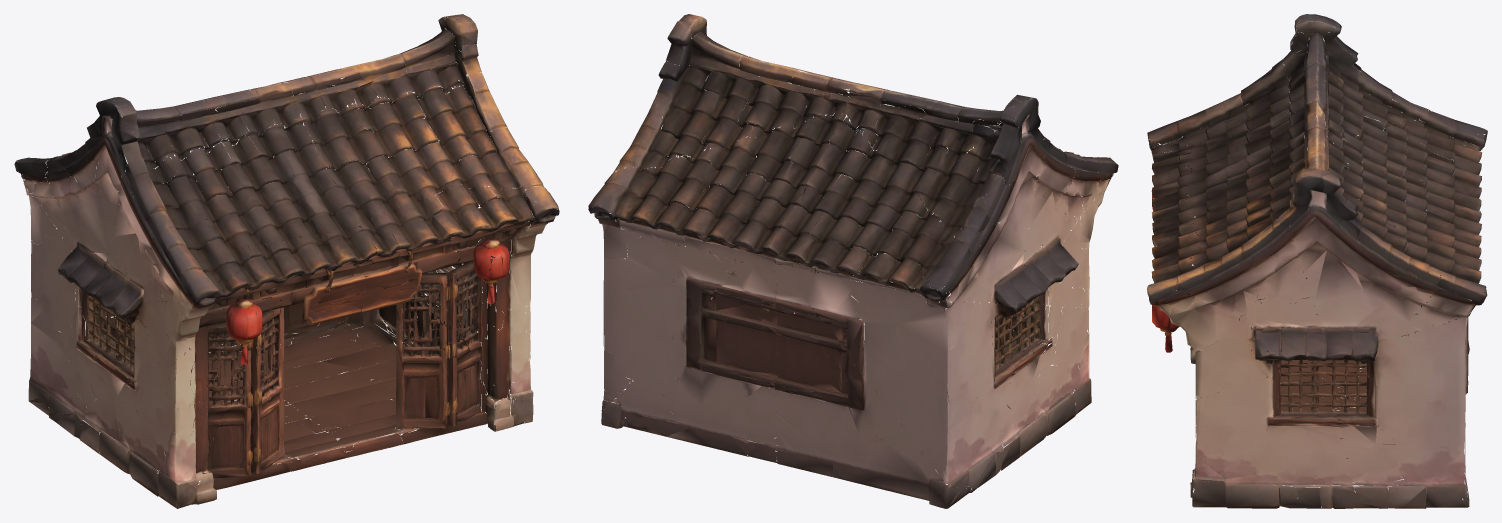
The model's file is house_b_40k.glb.
The picture shows the model from 3 angles, left to right: view 1: azimuth 30°, elevation 25°; view 2: azimuth 150°, elevation 25°; view 3: azimuth 270°, elevation 25°; orthographic projection. The views are drawn at different scales.
Visible parts, largest first — view 1: tripo_node_4c54a7d9-23c2-4f83-bcd5-d47f60c0be0a; view 2: tripo_node_4c54a7d9-23c2-4f83-bcd5-d47f60c0be0a; view 3: tripo_node_4c54a7d9-23c2-4f83-bcd5-d47f60c0be0a.
Part boxes in pixels (x1,y1,x2,y2): tripo_node_4c54a7d9-23c2-4f83-bcd5-d47f60c0be0a: (14, 14, 559, 508); tripo_node_4c54a7d9-23c2-4f83-bcd5-d47f60c0be0a: (588, 14, 1118, 508); tripo_node_4c54a7d9-23c2-4f83-bcd5-d47f60c0be0a: (1147, 14, 1487, 508).
Size of the model in its own units: 0.9815 by 0.8386 by 0.776.
Materials: 1 (1 with a texture image).
